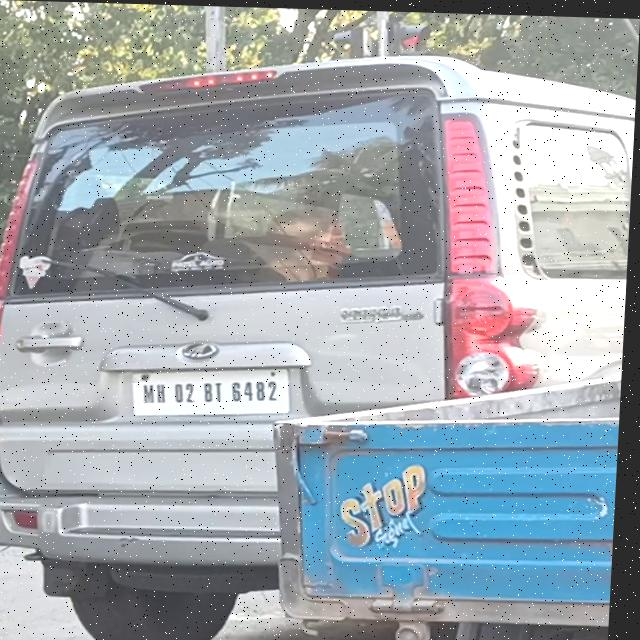plate: (132, 364, 298, 422)
